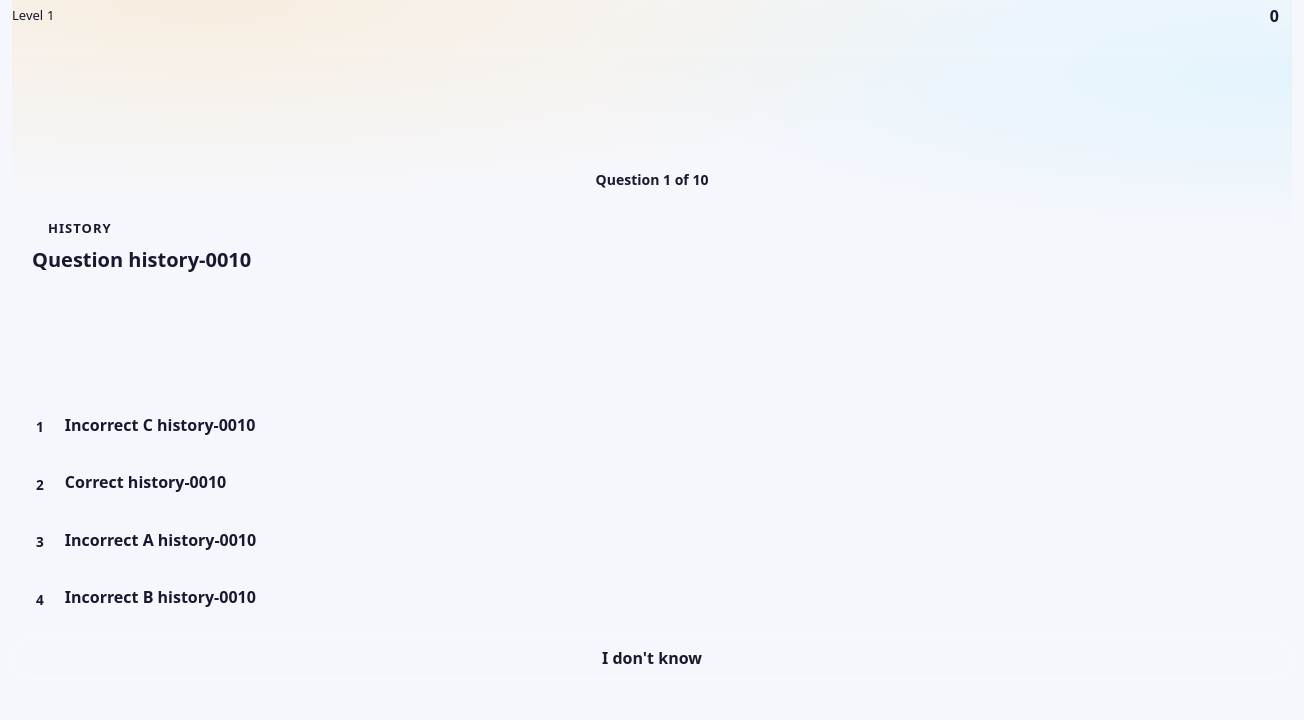
Test: uses the English texts when the language is English
This screenshot has width=1304, height=720.
Expected: the text "Question 1 of 10" is shown, [596,170,708,189]
Expected: the button "I don't know" is shown, [12,636,1292,680]
Click the button "2 Correct history-0010".
click(64, 482)  # box [12,461,1292,509]
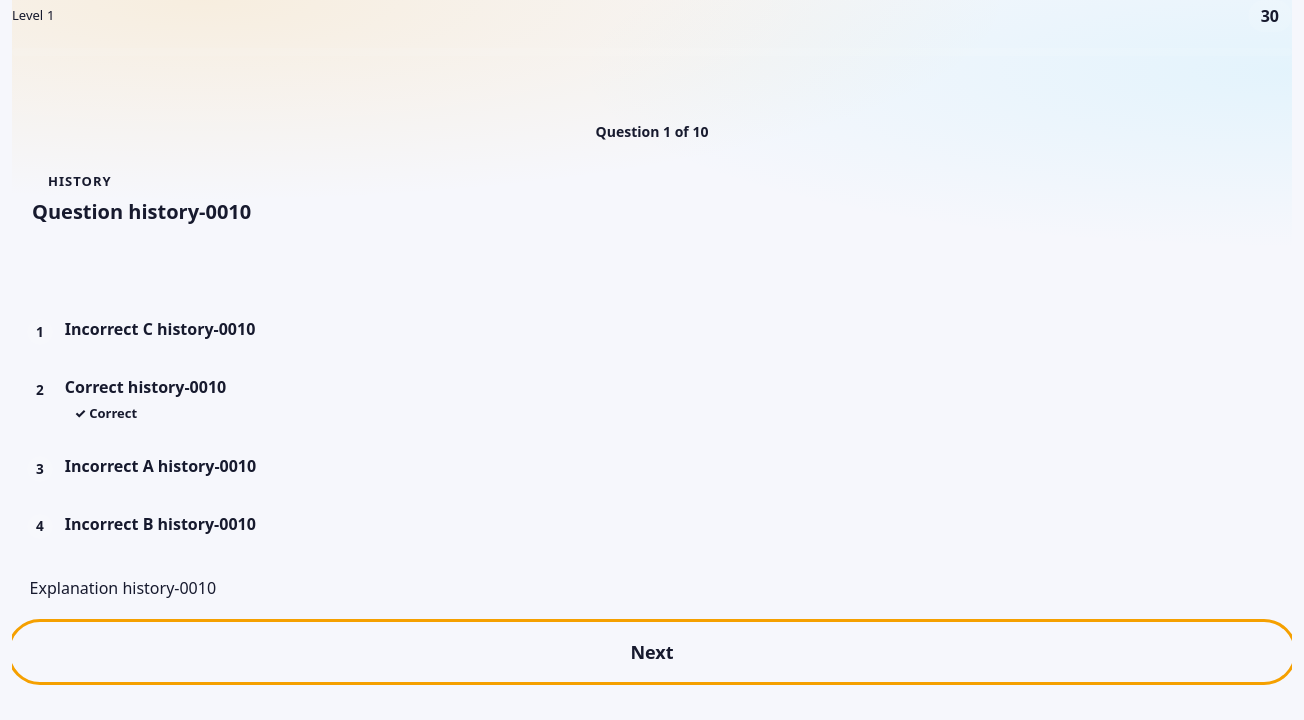
Expected: the text "✓ Correct" is shown, [74,404,137,422]
Expected: the text "Explanation history-0010" is shown, [30,577,216,599]
